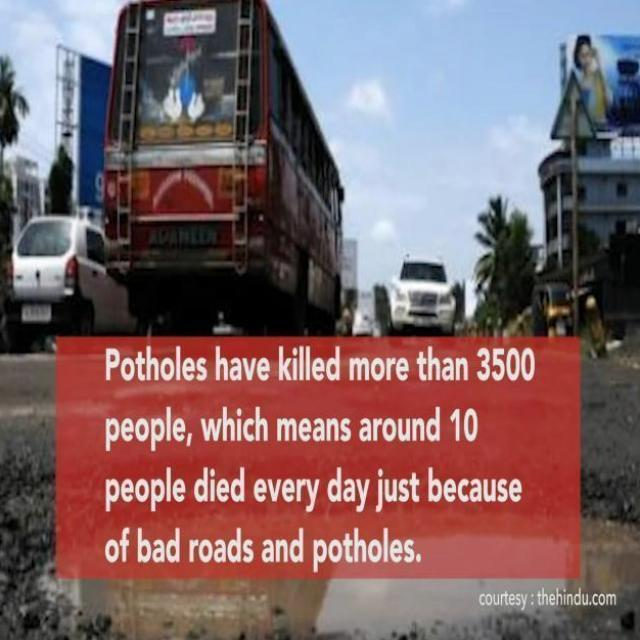Pathole: (32, 502, 640, 640)
